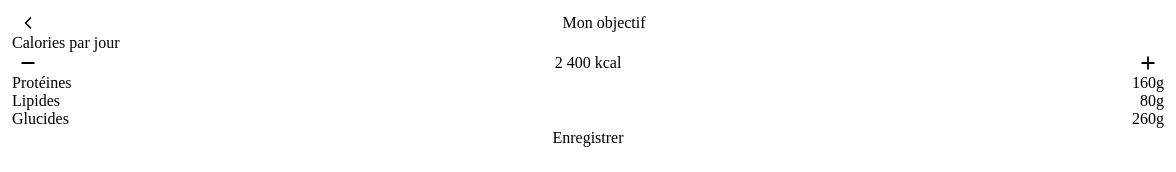
Test case: Mon objectif › updates the carbs live: kcal +50 → +13 then +12, P +10 → −10, F +10 → −22
Expected: the field named "Protéines par jour" is shown, [956,74,1156,92]
Click the button named "Augmenter de 50 kcal" at {"x": 1148, "y": 63}, box [1132,52,1164,74]
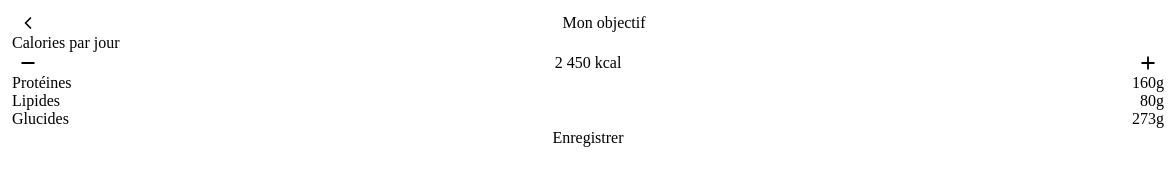
Expected: the text named "Glucides par jour, calculés" reads "273", [1132,110,1156,127]
Click the button named "Augmenter de 50 kcal" at {"x": 1148, "y": 63}, box [1132,52,1164,74]
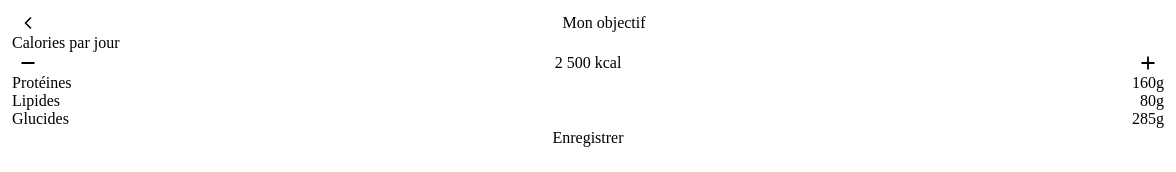
Expected: the text named "Glucides par jour, calculés" reads "285", [1132,110,1156,127]
Replace the text in the field named "Protéines par jour" with "170" at {"x": 1056, "y": 83}, box [956,74,1156,92]
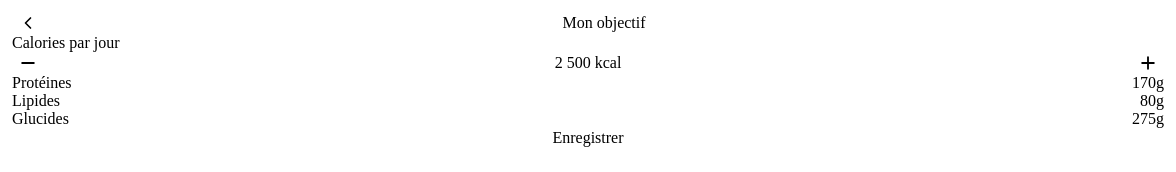
Expected: the text named "Glucides par jour, calculés" reads "275", [1132,110,1156,127]
Replace the text in the field named "Lipides par jour" with "90" at {"x": 1056, "y": 101}, box [956,92,1156,110]
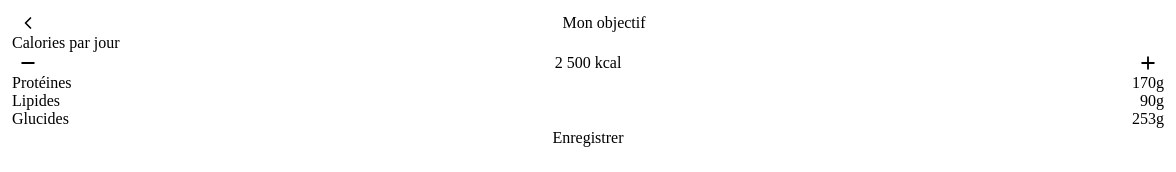
Expected: the text named "Glucides par jour, calculés" reads "253", [1132,110,1156,127]
